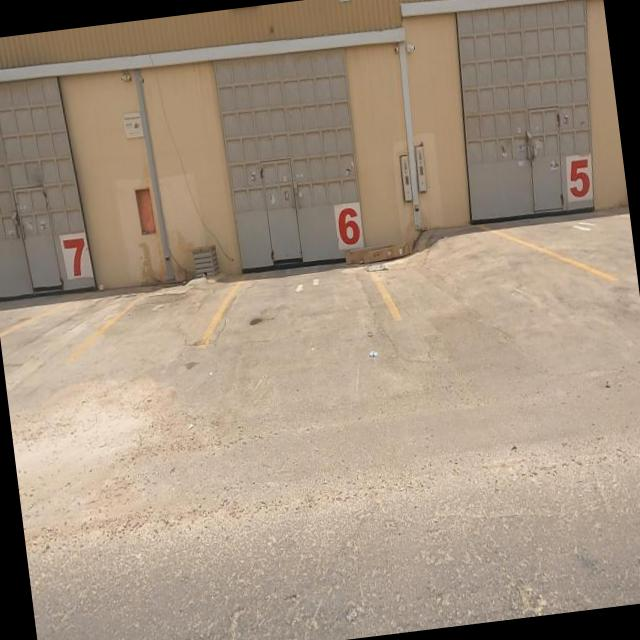debris: (348, 311, 396, 392)
